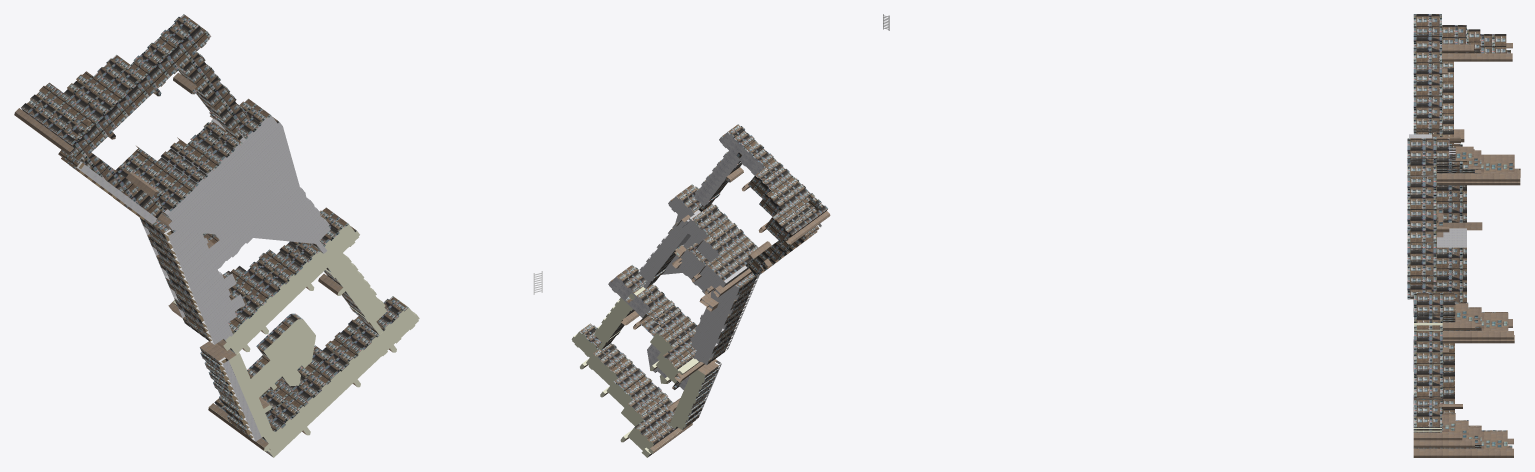
Rendered from Colonnade.fbx.
The picture shows the model from 3 angles, left to right: view 1: azimuth 30°, elevation 25°; view 2: azimuth 150°, elevation 25°; view 3: azimuth 270°, elevation 25°; orthographic projection. The views are drawn at different scales.
Visible parts, largest first — view 1: G_564_1, G_550_1, G_510_1, Object_1, RedWood, Object_2; view 2: G_564_1, G_550_1, G_510_1; view 3: G_550_1, G_564_1, G_510_1.
Boxes of the visible parts, box(x1,y1,x2,y2) form: G_564_1: box(168, 207, 419, 457); G_550_1: box(115, 98, 330, 344); G_510_1: box(14, 14, 246, 218); Object_1: box(80, 165, 156, 224); RedWood: box(79, 163, 253, 438); Object_2: box(223, 360, 261, 441); G_564_1: box(571, 265, 718, 457); G_550_1: box(639, 184, 759, 364); G_510_1: box(694, 124, 830, 294); G_550_1: box(1407, 134, 1520, 316); G_564_1: box(1413, 293, 1514, 457); G_510_1: box(1413, 14, 1518, 173).
Bounding box in the file's own units: 2175 × 3583 × 2673.
Materials: 10 (7 with a texture image).
